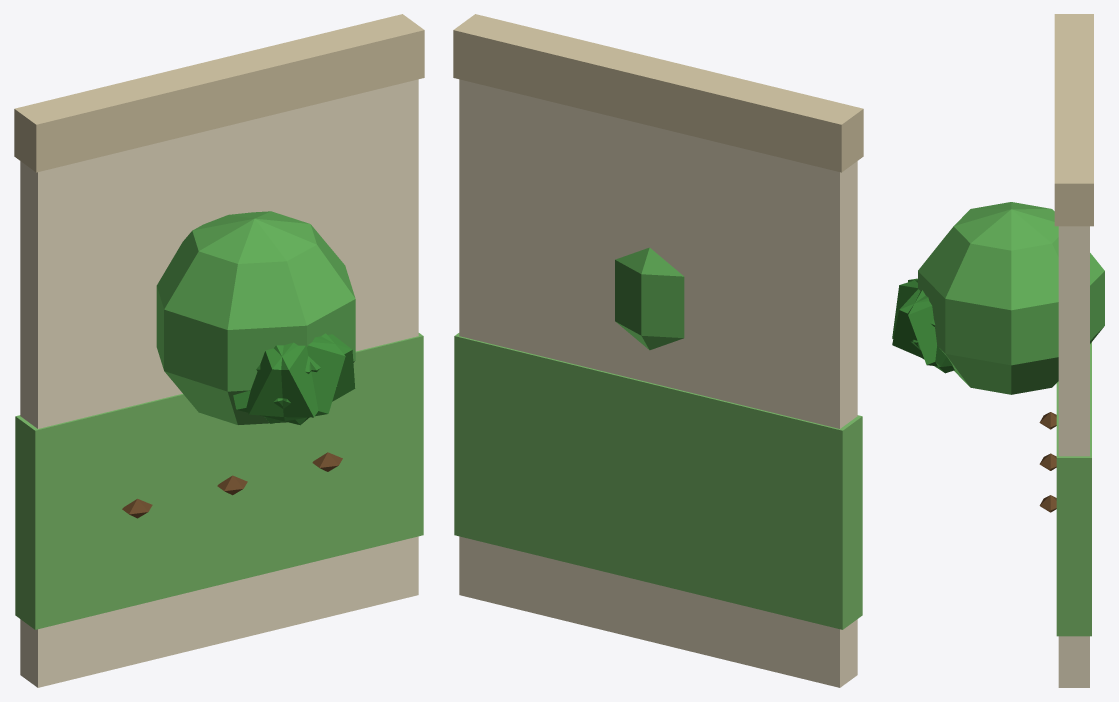
The model's file is uprawa-nasiona-kapusta.glb.
3 renders of one model, left to right at view 1: azimuth 30°, elevation 25°; view 2: azimuth 150°, elevation 25°; view 3: azimuth 270°, elevation 25°, orthographic. The views are drawn at different scales.
Parts seen in each view (by area): view 1: uprawa-nasiona-kapusta-0, uprawa-nasiona-kapusta-1, uprawa-nasiona-kapusta-3, uprawa-nasiona-kapusta-2, uprawa-nasiona-kapusta-5, uprawa-nasiona-kapusta-8, uprawa-nasiona-kapusta-7, uprawa-nasiona-kapusta-6; view 2: uprawa-nasiona-kapusta-0, uprawa-nasiona-kapusta-1, uprawa-nasiona-kapusta-2, uprawa-nasiona-kapusta-3; view 3: uprawa-nasiona-kapusta-3, uprawa-nasiona-kapusta-0, uprawa-nasiona-kapusta-2, uprawa-nasiona-kapusta-1, uprawa-nasiona-kapusta-6, uprawa-nasiona-kapusta-8, uprawa-nasiona-kapusta-5.
Part boxes in pixels (bbox=[...]): uprawa-nasiona-kapusta-0: bbox=[20, 79, 418, 687]; uprawa-nasiona-kapusta-1: bbox=[15, 333, 423, 629]; uprawa-nasiona-kapusta-3: bbox=[156, 211, 355, 424]; uprawa-nasiona-kapusta-2: bbox=[14, 14, 424, 172]; uprawa-nasiona-kapusta-5: bbox=[256, 345, 318, 417]; uprawa-nasiona-kapusta-8: bbox=[264, 333, 345, 423]; uprawa-nasiona-kapusta-7: bbox=[246, 342, 311, 417]; uprawa-nasiona-kapusta-6: bbox=[308, 334, 355, 401]; uprawa-nasiona-kapusta-0: bbox=[459, 79, 857, 687]; uprawa-nasiona-kapusta-1: bbox=[454, 333, 862, 629]; uprawa-nasiona-kapusta-2: bbox=[453, 14, 863, 172]; uprawa-nasiona-kapusta-3: bbox=[615, 247, 684, 350]; uprawa-nasiona-kapusta-3: bbox=[918, 202, 1104, 394]; uprawa-nasiona-kapusta-0: bbox=[1058, 226, 1089, 687]; uprawa-nasiona-kapusta-2: bbox=[1054, 14, 1093, 226]; uprawa-nasiona-kapusta-1: bbox=[1056, 342, 1091, 636]; uprawa-nasiona-kapusta-6: bbox=[907, 290, 953, 367]; uprawa-nasiona-kapusta-8: bbox=[892, 289, 935, 358]; uprawa-nasiona-kapusta-5: bbox=[892, 279, 954, 373].
Size of the model in its own units: 1.02 by 1.42 by 0.5409.
